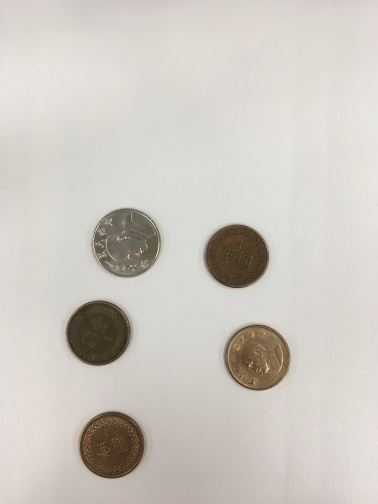1 dollar: (218, 320, 303, 400), (193, 217, 280, 295), (72, 405, 152, 483), (60, 291, 133, 374)
5 dollar: (85, 201, 170, 286)
